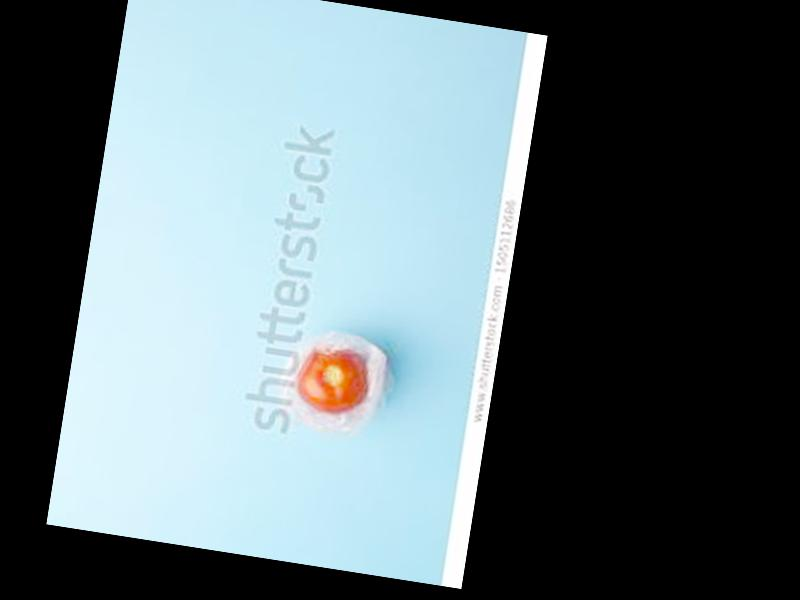Tomato: (293, 341, 371, 416)
